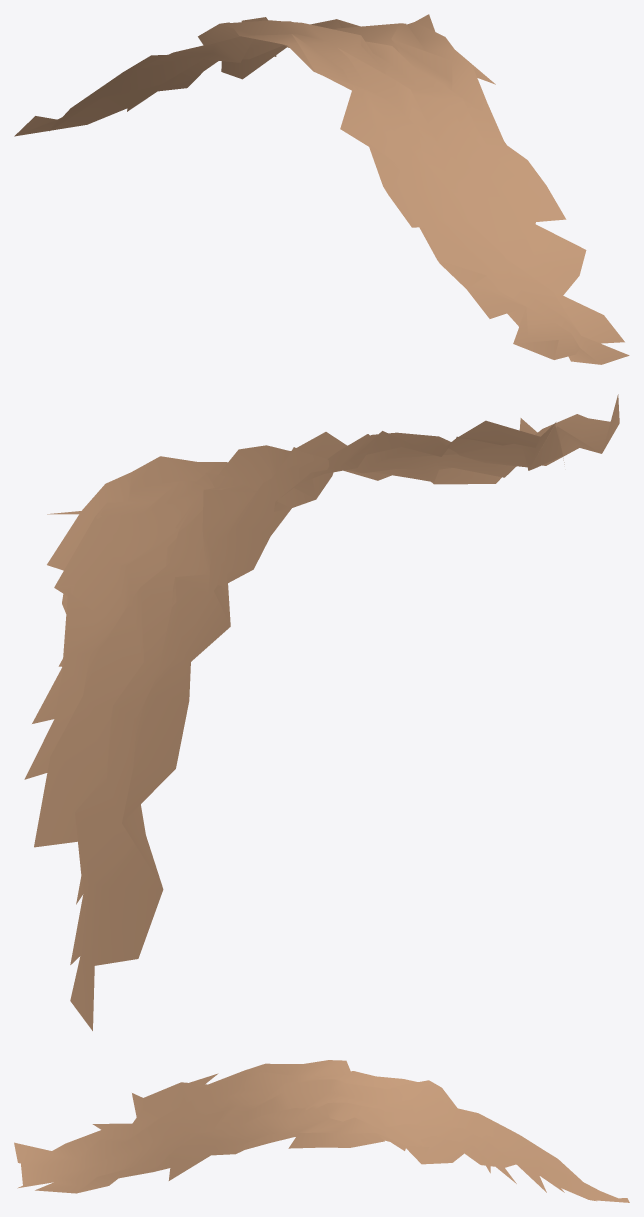
The model's file is pottery_fragment_087.obj.
The picture shows the model from 3 angles, top to bottom: view 1: azimuth 30°, elevation 25°; view 2: azimuth 150°, elevation 25°; view 3: azimuth 270°, elevation 25°; orthographic projection. The views are drawn at different scales.
Size of the model in its own units: 7.67 by 8.04 by 27.89.
